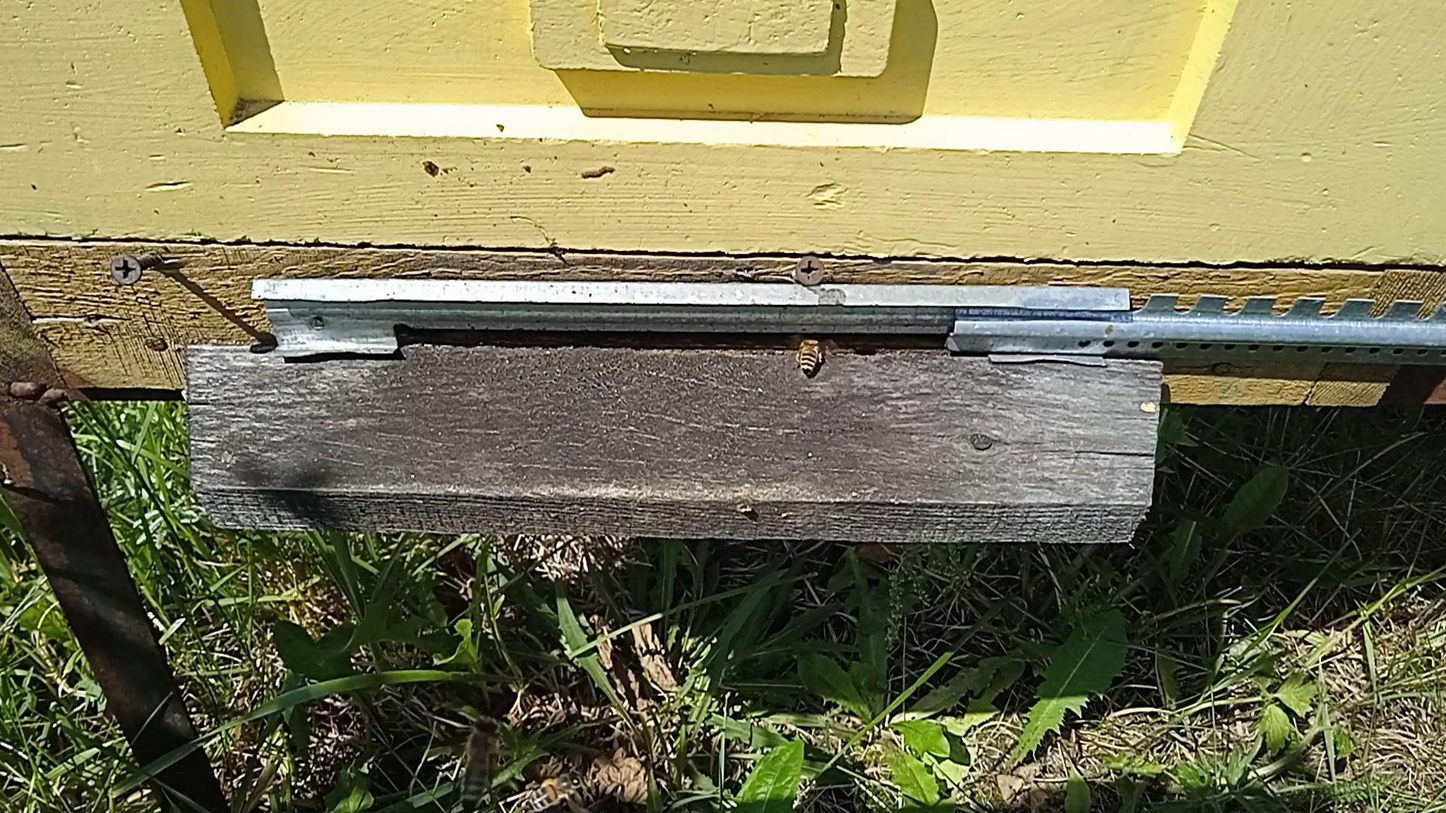worker-bee: (459, 717, 502, 811), (523, 774, 582, 812), (794, 333, 826, 377)
